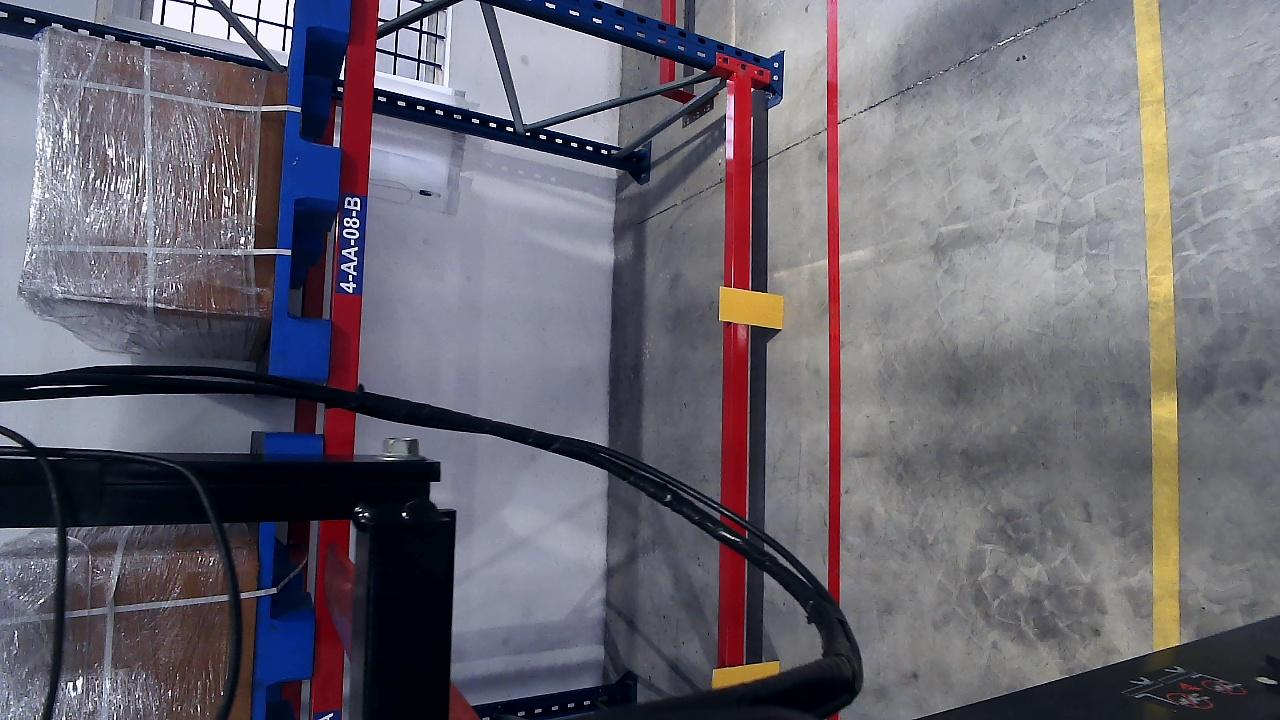h_rack: (324, 0, 383, 387), (724, 66, 759, 653)
orange_strip: (719, 287, 784, 329), (711, 661, 780, 688)
red_line: (822, 83, 844, 420)
small_pallet: (269, 0, 353, 378)
yellow_line: (1135, 0, 1181, 585)
